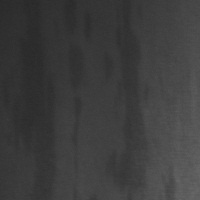inclusion: (9, 1, 57, 197), (105, 1, 149, 194), (67, 1, 95, 199), (162, 163, 181, 200)
